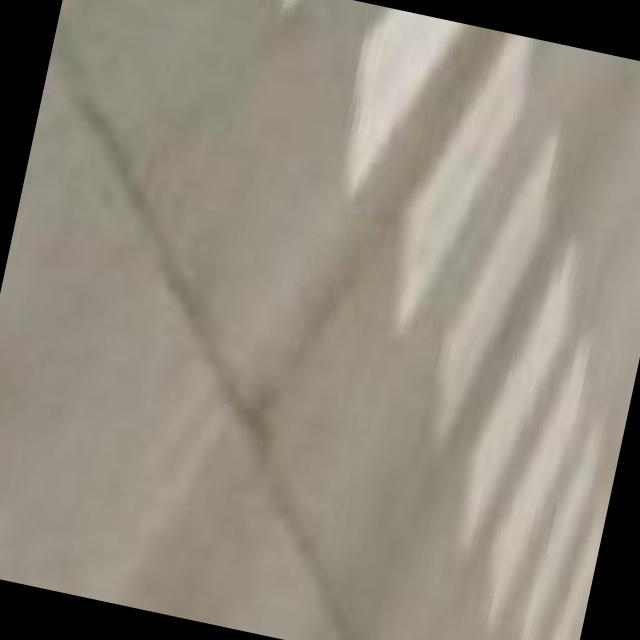zebra: (279, 0, 606, 640)
